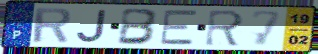7: (249, 9, 282, 48)
B: (116, 7, 161, 46)
E: (159, 9, 198, 46)
J: (75, 8, 109, 44)
R: (203, 9, 246, 48), (31, 7, 73, 44)
